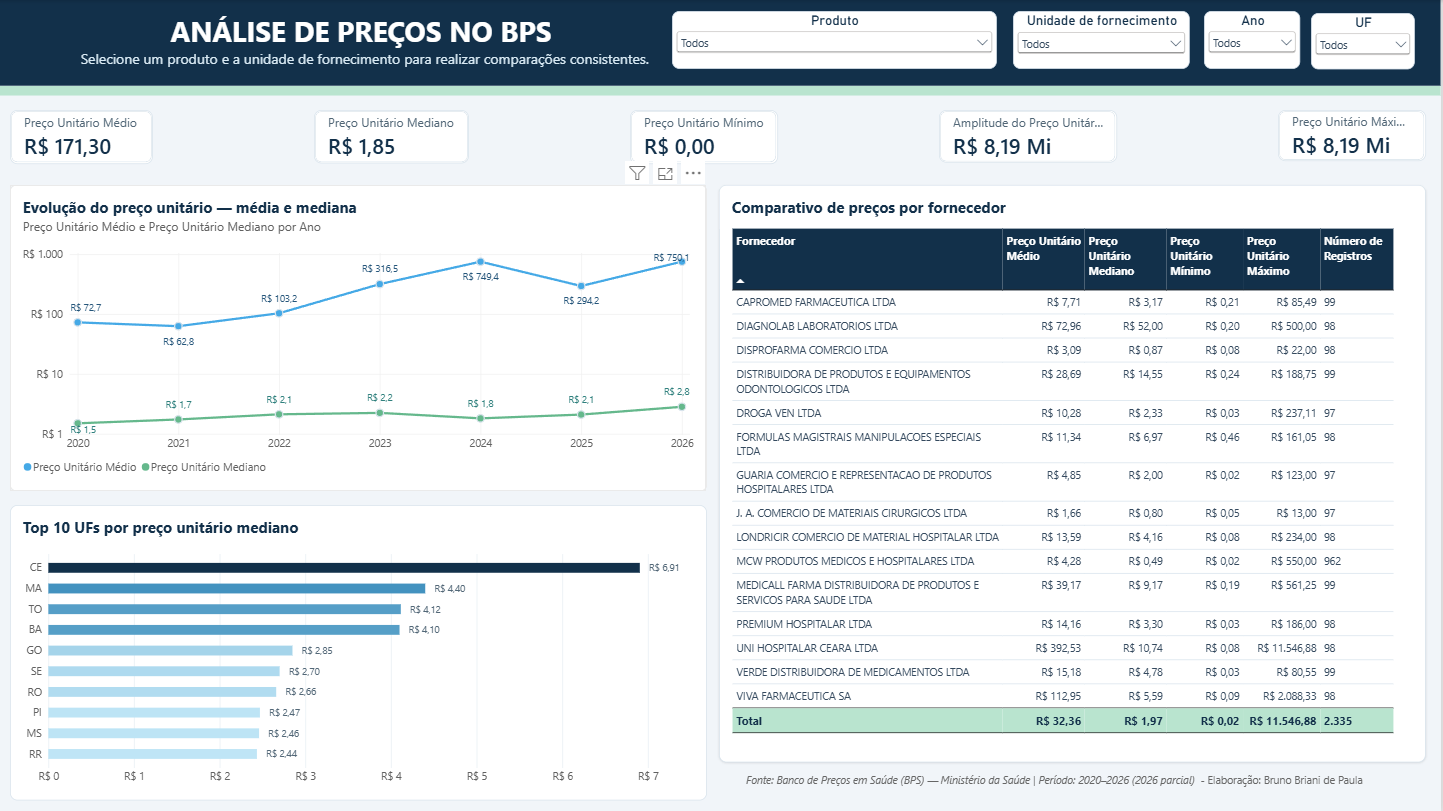

What the dashboard file says about the page in this screenshot:
{"tool":"powerbi","page":{"name":"Análise de Preços","canvas":[1920,1080],"ordinal":2},"visuals":[{"type":"shape","box":[0,114.2,1920,12.7],"z":0},{"type":"shape","box":[0,0,1920,114.2],"z":1000},{"type":"slicer","title":"Produto","fields":{"Values":["Fato_BPS.descricao_catmat"]},"box":[898.3,15,431.7,76.7],"z":2000},{"type":"slicer","title":"Ano","fields":{"Values":["Dim_Calendario.Ano"]},"box":[1605,15,128.3,76.7],"z":3000},{"type":"slicer","title":"UF","fields":{"Values":["Fato_BPS.uf"]},"box":[1748.3,16.7,138.3,75],"z":4000},{"type":"cardVisual","fields":{"Data":["Medidas.Preço Unitário Mediano"]},"box":[421,146.7,206.1,71.3],"z":5000},{"type":"cardVisual","fields":{"Data":["Medidas.Preço Unitário Médio"]},"box":[16.7,146.7,190,71.7],"z":6000},{"type":"cardVisual","fields":{"Data":["Medidas.Amplitude do Preço Unitário"]},"box":[1252.4,146.7,236.7,70],"z":7000},{"type":"cardVisual","fields":{"Data":["Medidas.Preço Unitário Mínimo"]},"box":[841.4,146.7,196.7,71.7],"z":8000},{"type":"cardVisual","fields":{"Data":["Medidas.Preço Unitário Máximo"]},"box":[1703.3,146.7,196.7,68.3],"z":9000},{"type":"lineChart","title":"Evolução do preço unitário — média e mediana","fields":{"Category":["Dim_Calendario.Ano"],"Y":["Medidas.Preço Unitário Médio","Medidas.Preço Unitário Mediano"]},"box":[16.7,246.7,926.7,406.7],"z":10000},{"type":"slicer","title":"Unidade de fornecimento","fields":{"Values":["Fato_BPS.unidade_fornecimento"]},"box":[1351.7,15,235,76.7],"z":11000},{"type":"barChart","title":"Top 10 UFs por preço unitário mediano","fields":{"Category":["Fato_BPS.uf"],"Y":["Medidas.Preço Unitário Mediano"]},"box":[16.7,671.7,926.7,393.3],"z":12000},{"type":"tableEx","title":"Comparativo de preços por fornecedor","fields":{"Values":["Fato_BPS.fornecedor","Medidas.Preço Unitário Médio","Medidas.Preço Unitário Mediano","Medidas.Preço Unitário Mínimo","Medidas.Preço Unitário Máximo","Medidas.Número de Registros"]},"box":[960,246.7,940,768.3],"z":13000},{"type":"textbox","box":[17,15.5,943.7,96.1],"z":14000},{"type":"textbox","box":[996.7,1028.3,840,25],"z":15000}]}

Visuals, with their boxes in screenshot pixels (x1, y1, x2, y2), scaled from the page's 1920x1080 canvas onto the 1443x811 screenshot:
shape: 0 86 1442 95
shape: 0 0 1442 86
"Produto" slicer: 675 11 1000 69
"Ano" slicer: 1206 11 1303 69
"UF" slicer: 1314 13 1418 69
cardVisual - Medidas.Preço Unitário Mediano: 316 110 471 164
cardVisual - Medidas.Preço Unitário Médio: 13 110 155 164
cardVisual - Medidas.Amplitude do Preço Unitário: 941 110 1119 163
cardVisual - Medidas.Preço Unitário Mínimo: 632 110 780 164
cardVisual - Medidas.Preço Unitário Máximo: 1280 110 1428 161
"Evolução do preço unitário — média e mediana" lineChart: 13 185 709 491
"Unidade de fornecimento" slicer: 1016 11 1193 69
"Top 10 UFs por preço unitário mediano" barChart: 13 504 709 800
"Comparativo de preços por fornecedor" tableEx: 722 185 1428 762
textbox: 13 12 722 84
textbox: 749 772 1380 791
